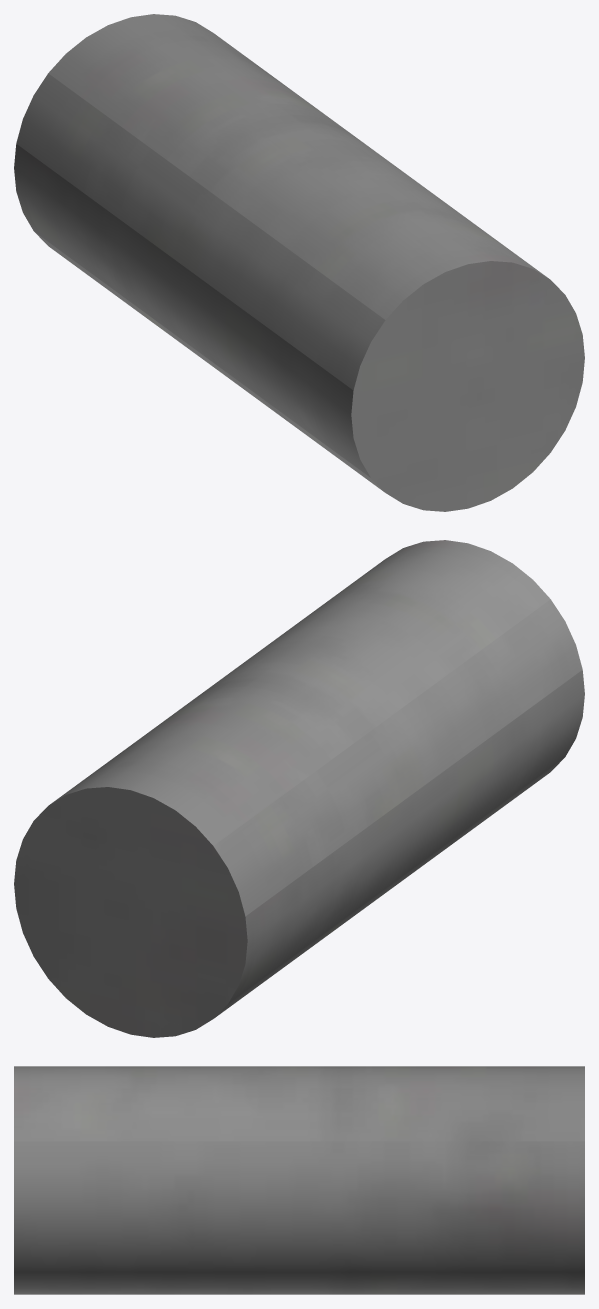
The model's file is player_0_joystick__joystick_shaft.glb.
3 views of the same model, one above another, from view 1: azimuth 30°, elevation 25°; view 2: azimuth 150°, elevation 25°; view 3: azimuth 270°, elevation 25° (orthographic). The views are drawn at different scales.
Parts seen in each view (by area): view 1: geometry_0; view 2: geometry_0; view 3: geometry_0.
Part boxes in pixels (x1=…): geometry_0: x1=14, y1=14, x2=584, y2=511; geometry_0: x1=14, y1=540, x2=584, y2=1037; geometry_0: x1=14, y1=1066, x2=584, y2=1294.
Size of the model in its own units: 0.02 by 0.02 by 0.05.
Materials: 1 (1 with a texture image).
